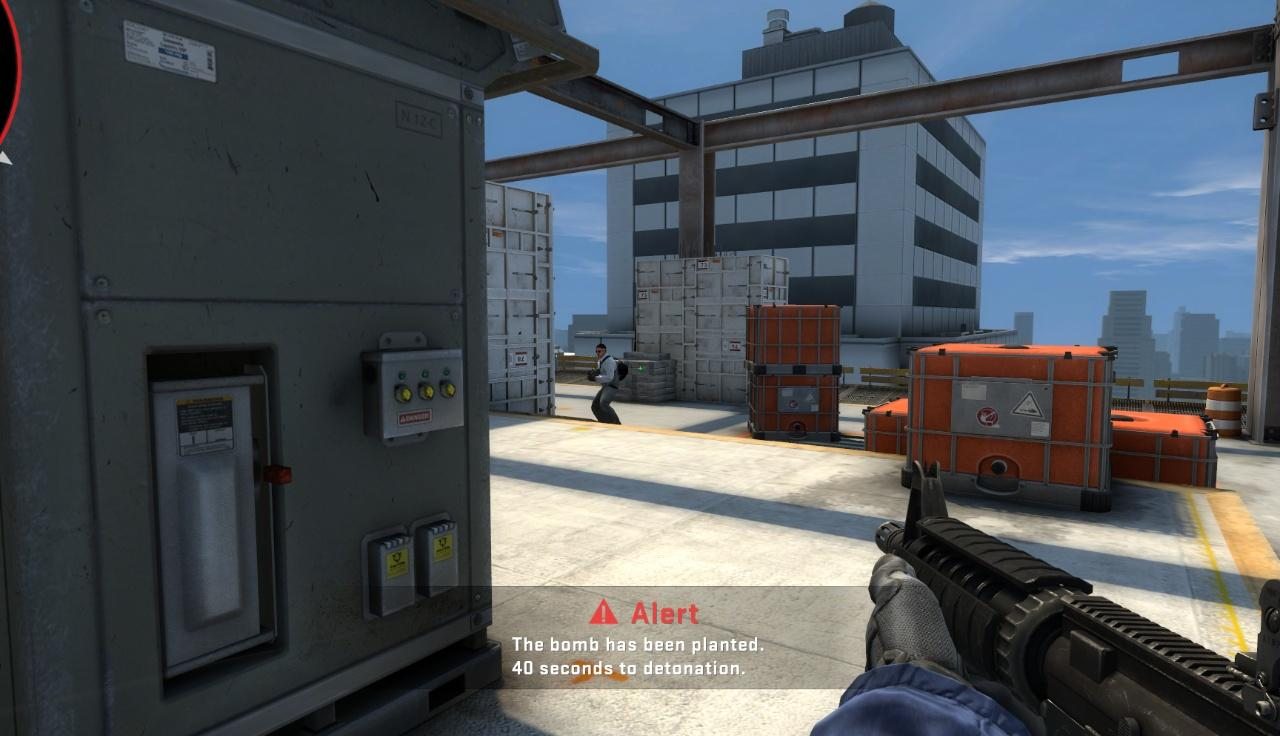rifle: (848, 459, 1279, 728)
tt: (587, 342, 623, 423)
tthead: (596, 343, 607, 358)
